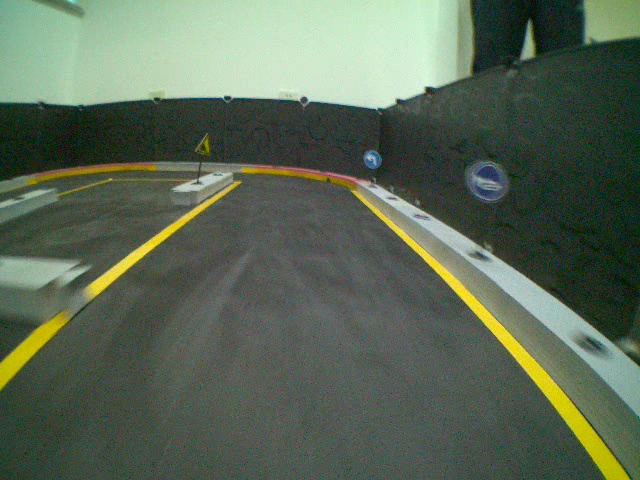fast: (196, 131, 211, 155)
horn: (467, 159, 508, 203)
turn: (364, 149, 382, 170)
